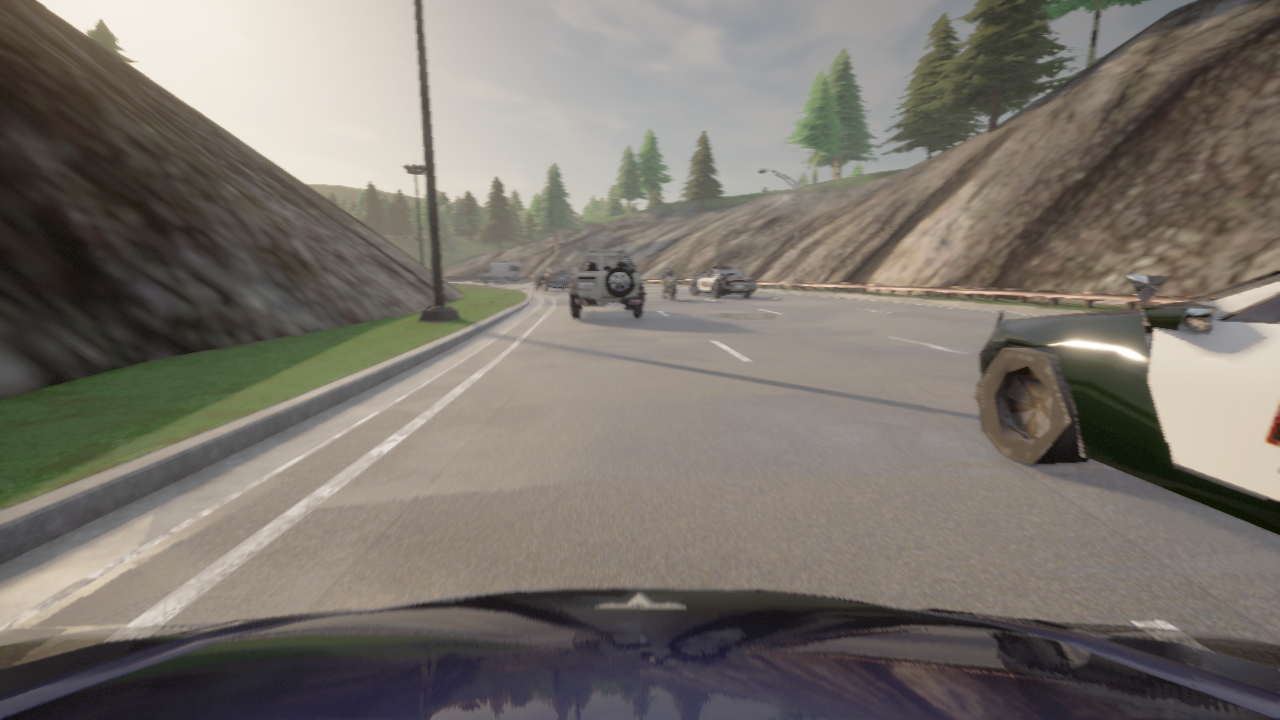cyclist: (0, 588, 1279, 719), (973, 270, 1279, 535), (570, 250, 644, 319), (690, 267, 756, 297), (534, 267, 574, 291), (482, 262, 520, 283), (657, 276, 677, 300), (573, 271, 576, 274)
